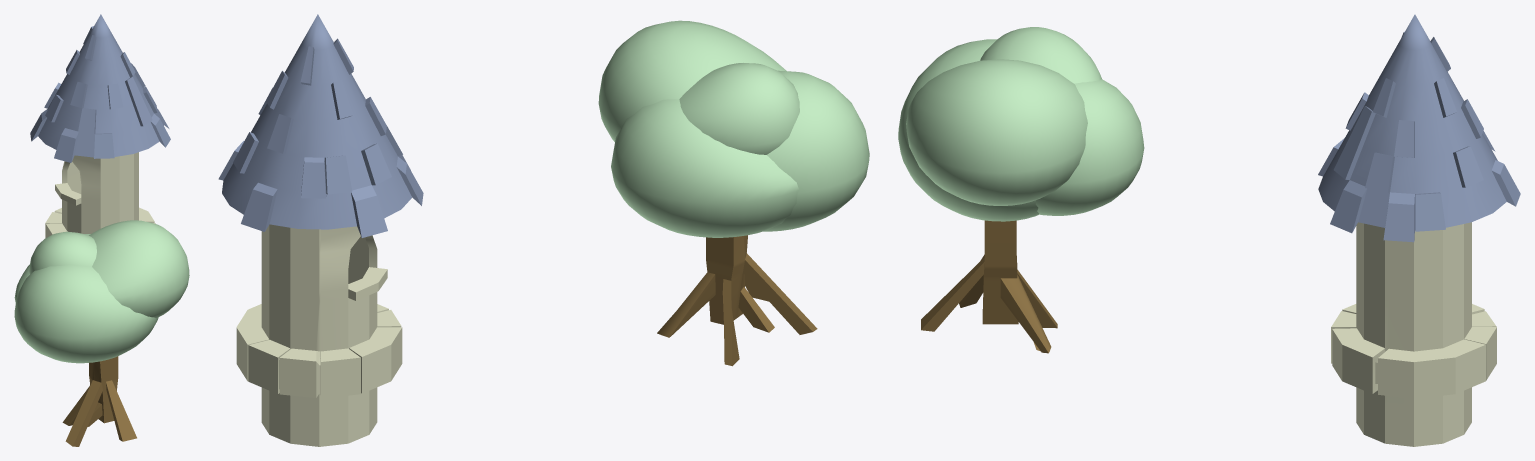
File: testing_lightinginunity_castleandtree_2ndattempt.fbx
3 renders of one model, left to right at view 1: azimuth 30°, elevation 25°; view 2: azimuth 150°, elevation 25°; view 3: azimuth 270°, elevation 25°, orthographic. The views are drawn at different scales.
Parts seen in each view (by area): view 1: pCone3, pCone4; view 2: pCone4, pCone3; view 3: pCone4, pCone3.
Boxes of the visible parts, x1,y1,x2,y2 form: pCone3: (14,220,189,446); pCone4: (30,14,170,238); pCone4: (218,14,423,446); pCone3: (598,20,869,366); pCone4: (1318,14,1520,446); pCone3: (898,27,1144,353).
Size of the model in its own units: 703 by 678 by 899.
